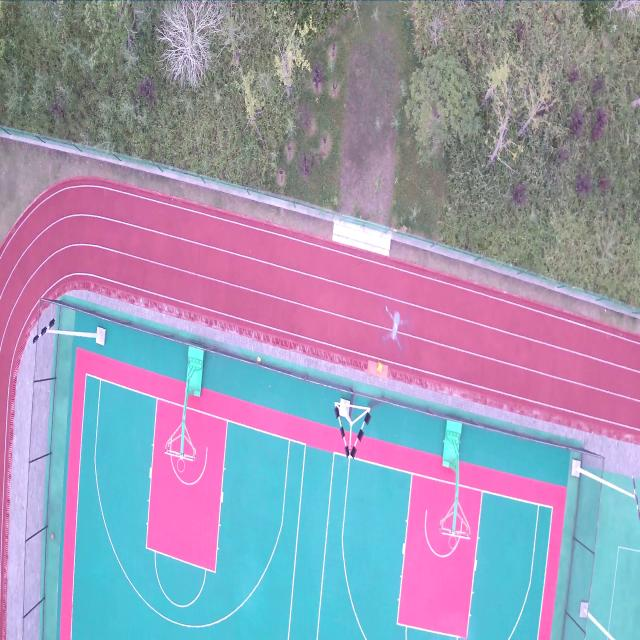UAV: (382, 306, 409, 351)
